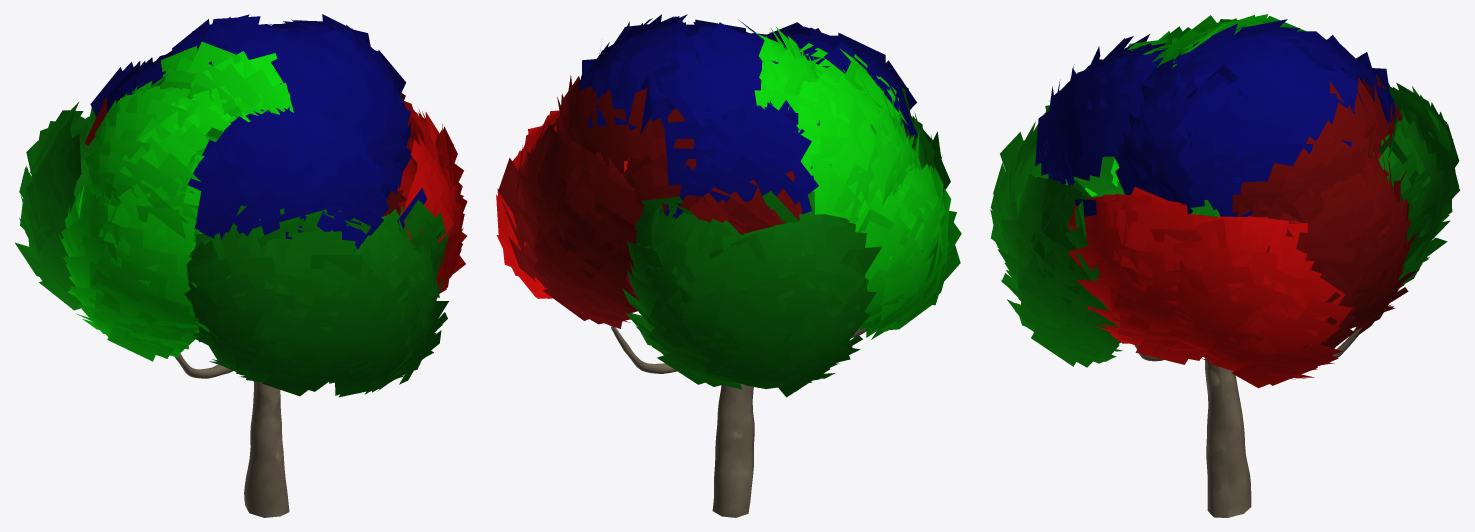
Rendered from Standar Tree Small_LOD_0_v2.fbx.
3 renders of one model, left to right at view 1: azimuth 30°, elevation 25°; view 2: azimuth 150°, elevation 25°; view 3: azimuth 270°, elevation 25°, orthographic. The views are drawn at different scales.
Parts seen in each view (by area): view 1: Top_Tree_Small_LOD_0, Standar_Trunk_Small_LOD_0; view 2: Top_Tree_Small_LOD_0, Standar_Trunk_Small_LOD_0; view 3: Top_Tree_Small_LOD_0, Standar_Trunk_Small_LOD_0.
Boxes of the visible parts, x1=… form: Top_Tree_Small_LOD_0: x1=15, y1=14, x2=467, y2=397; Standar_Trunk_Small_LOD_0: x1=175, y1=353, x2=289, y2=517; Top_Tree_Small_LOD_0: x1=496, y1=14, x2=961, y2=397; Standar_Trunk_Small_LOD_0: x1=611, y1=326, x2=866, y2=517; Top_Tree_Small_LOD_0: x1=990, y1=14, x2=1459, y2=388; Standar_Trunk_Small_LOD_0: x1=1130, y1=327, x2=1362, y2=517.
Size of the model in its own units: 1635 by 1882 by 1667.
